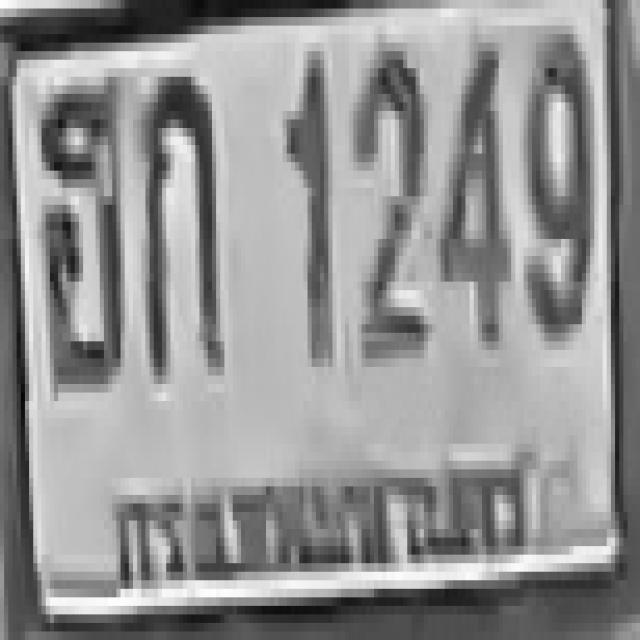1: (283, 47, 328, 363)
10GorGai: (137, 73, 220, 371)
2: (351, 39, 422, 354)
4: (436, 34, 507, 341)
53HorNokHook: (38, 77, 120, 384)
9: (524, 25, 590, 332)
Bangkok: (92, 442, 538, 588)
